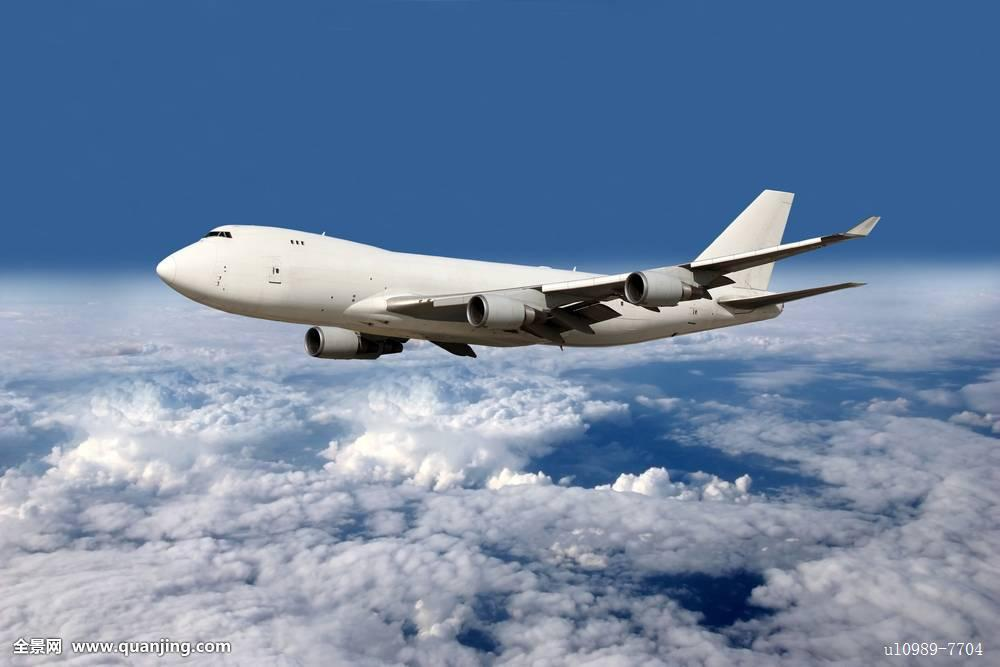airplane: (150, 186, 887, 350)
